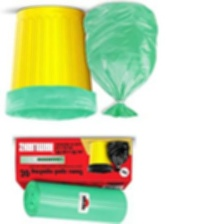plastic_bag: (79, 0, 176, 122), (15, 179, 134, 224), (2, 85, 102, 124), (103, 139, 133, 173), (83, 162, 116, 175)
